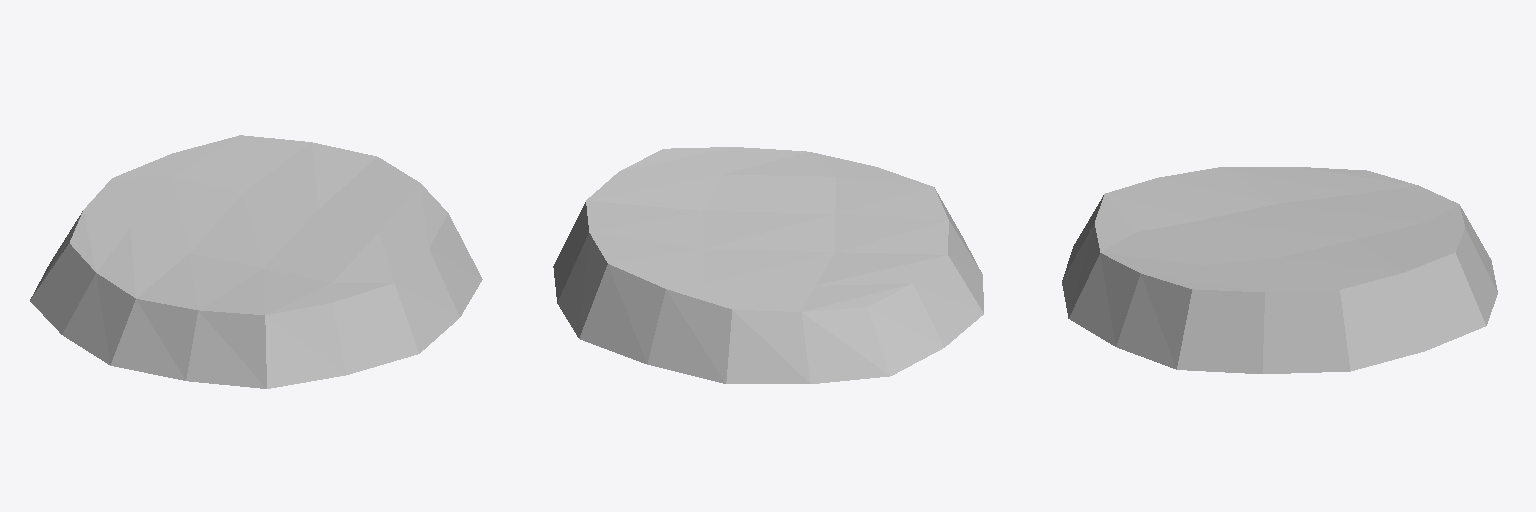
File: slice_02.obj
3 renders of one model, left to right at view 1: azimuth 30°, elevation 25°; view 2: azimuth 150°, elevation 25°; view 3: azimuth 270°, elevation 25°, orthographic.
Parts seen in each view (by area): view 1: Mushroom.003_Cube.010; view 2: Mushroom.003_Cube.010; view 3: Mushroom.003_Cube.010.
Part boxes in pixels (x1,y1,x2,y2): Mushroom.003_Cube.010: (30, 135, 482, 388); Mushroom.003_Cube.010: (553, 147, 983, 383); Mushroom.003_Cube.010: (1062, 167, 1497, 373).
Size of the model in its own units: 0.9469 by 0.1964 by 0.9656.